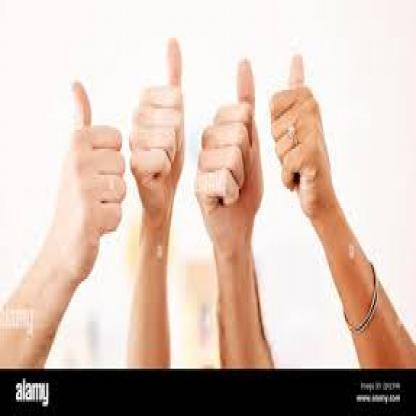thumb_up: (56, 77, 129, 270), (195, 56, 266, 246), (127, 34, 188, 214), (269, 50, 330, 212)
